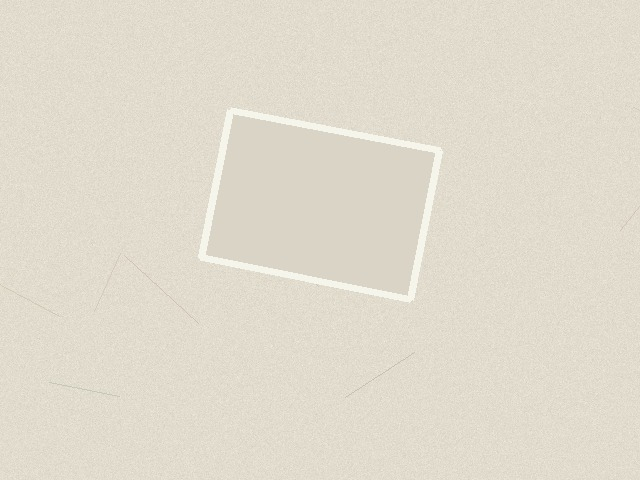parking_area: (201, 110, 439, 299)
